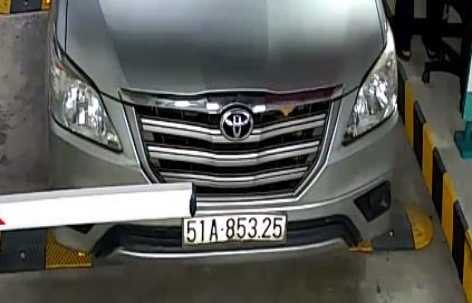plate: (177, 212, 294, 255)
